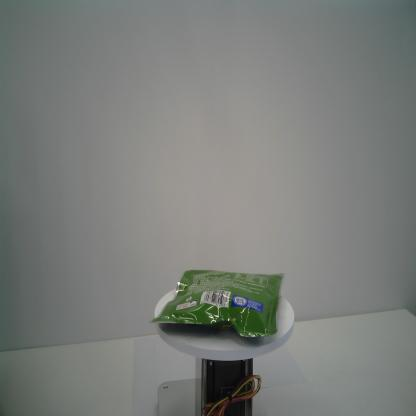Dried Fruit: (147, 265, 285, 341)
